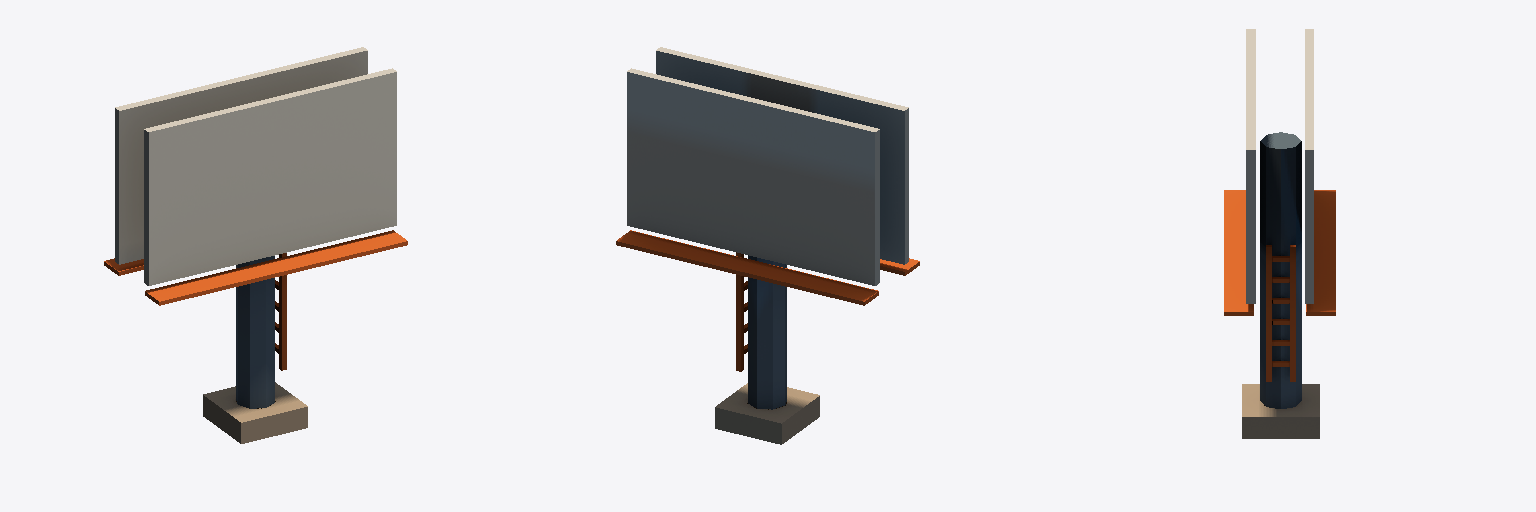
The picture shows the model from 3 angles: view 1: azimuth 30°, elevation 25°; view 2: azimuth 150°, elevation 25°; view 3: azimuth 270°, elevation 25°; orthographic projection.
Parts seen in each view (by area): view 1: billboard; view 2: billboard; view 3: billboard.
Part boxes in pixels (left/top/right/bottom): billboard: left=104, top=47, right=407, bottom=443; billboard: left=616, top=47, right=919, bottom=444; billboard: left=1224, top=29, right=1335, bottom=438.
Size of the model in its own units: 1.53 by 1.95 by 0.591.
1 materials, 1 textured.